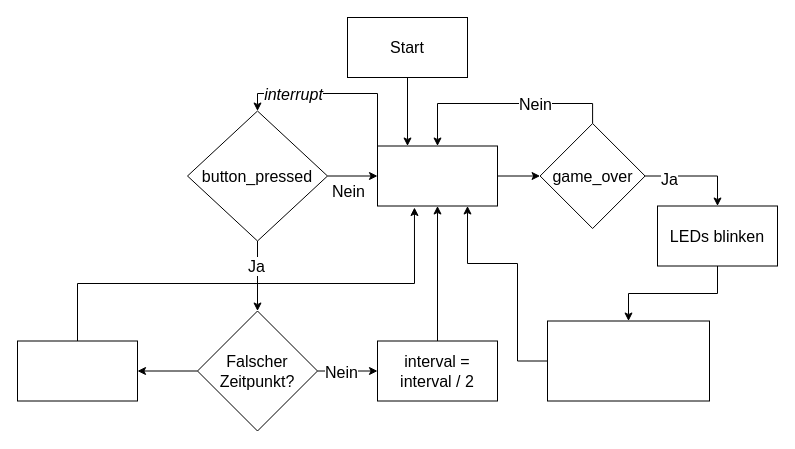
Image size: 795x449. Some labels were removed from this diagram. Here are the shapes that lost their labels. From the top down, the centre of each, then its label:
(x=437, y=175): Weiter mit Spiellogik
(x=77, y=370): game_over = true
(x=628, y=360): interval = INTERVAL_DEFAULT
